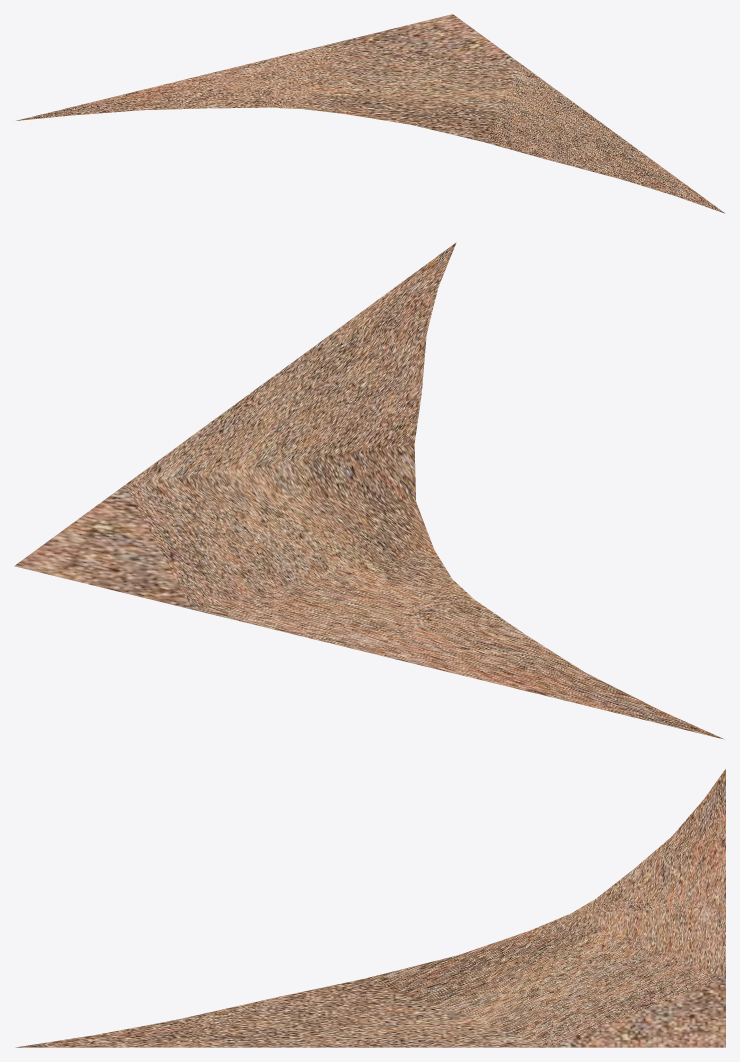
Rendered from GroundCave.obj.
3 renders of one model, top to bottom at view 1: azimuth 30°, elevation 25°; view 2: azimuth 150°, elevation 25°; view 3: azimuth 270°, elevation 25°, orthographic. The views are drawn at different scales.
Parts seen in each view (by area): view 1: 平面_平面.005; view 2: 平面_平面.005; view 3: 平面_平面.005.
Part boxes in pixels (x1,y1,x2,y2): 平面_平面.005: (16, 14, 725, 213); 平面_平面.005: (14, 242, 724, 739); 平面_平面.005: (15, 769, 725, 1047).
Size of the model in its own units: 8.4 by 1e-06 by 9.05.
Materials: 1 (1 with a texture image).
